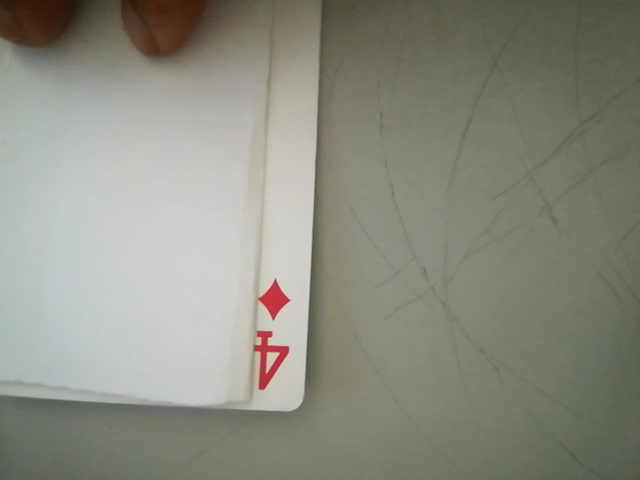fk 4: (239, 275, 302, 399)
